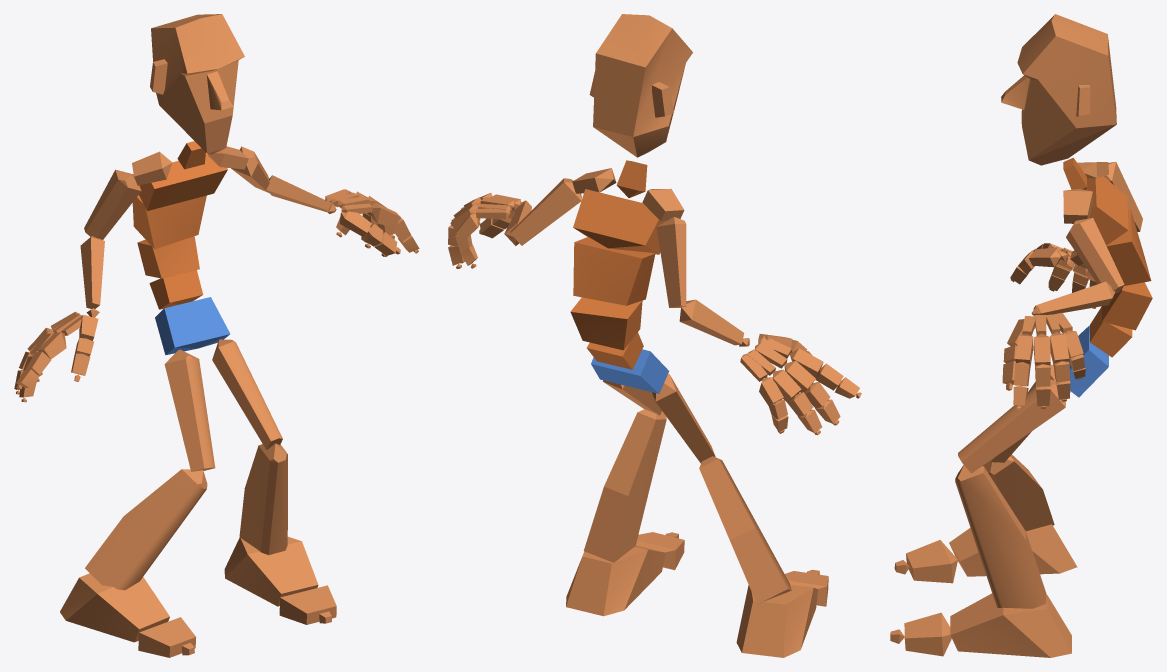
File: prueba180.obj
The picture shows the model from 3 angles, left to right: view 1: azimuth 30°, elevation 25°; view 2: azimuth 150°, elevation 25°; view 3: azimuth 270°, elevation 25°; orthographic projection. The views are drawn at different scales.
Parts seen in each view (by area): view 1: BOPED_Head, BOPED_R_leg, BOPED_R_foot, BOPED_L_leg, BOPED_R_foot01, BOPED_R_legup, Bone01, BOPED_L_legup, Bone04, Bone05, BOPED_R_arm_upper, Bone03 (+8 smaller); view 2: BOPED_Head, BOPED_L_leg, BOPED_R_leg, BOPED_R_foot01, BOPED_R_foot, Bone04, Bone05, Bone03, BOPED_R_arm_upper, BOPED_R_legup, BOPED_L_arm_upper, Bone01 (+8 smaller); view 3: BOPED_Head, BOPED_L_leg, BOPED_R_foot01, BOPED_L_legup, BOPED_R_leg, BOPED_R_foot, BOPED_L_arm_upper, Bone05, Bone04, BOPED_R_foot_toe01, BOPED_R_foot_toe04, Bone03 (+12 smaller).
Part boxes in pixels (x1,y1,x2,y2): BOPED_Head: [150, 14, 244, 154]; BOPED_R_leg: [85, 469, 207, 590]; BOPED_R_foot: [60, 573, 169, 642]; BOPED_L_leg: [239, 443, 287, 555]; BOPED_R_foot01: [224, 536, 318, 606]; BOPED_R_legup: [164, 349, 215, 471]; Bone01: [155, 297, 230, 355]; BOPED_L_legup: [212, 339, 282, 449]; Bone04: [132, 195, 206, 248]; Bone05: [139, 153, 227, 210]; BOPED_R_arm_upper: [84, 169, 141, 239]; Bone03: [137, 236, 199, 278]; BOPED_Head: [589, 14, 692, 157]; BOPED_L_leg: [583, 409, 666, 562]; BOPED_R_leg: [699, 456, 791, 604]; BOPED_R_foot01: [566, 545, 665, 616]; BOPED_R_foot: [736, 584, 817, 657]; Bone04: [573, 237, 655, 305]; Bone05: [573, 189, 665, 254]; Bone03: [570, 297, 642, 350]; BOPED_R_arm_upper: [656, 217, 686, 307]; BOPED_R_legup: [652, 374, 715, 463]; BOPED_L_arm_upper: [510, 178, 581, 245]; Bone01: [591, 349, 669, 393]; BOPED_Head: [1001, 14, 1116, 165]; BOPED_L_leg: [955, 465, 1046, 608]; BOPED_R_foot01: [950, 593, 1071, 657]; BOPED_L_legup: [958, 379, 1065, 473]; BOPED_R_leg: [982, 454, 1054, 531]; BOPED_R_foot: [949, 524, 1077, 576]; BOPED_L_arm_upper: [1066, 218, 1124, 293]; Bone05: [1086, 176, 1128, 245]; Bone04: [1106, 209, 1151, 285]; BOPED_R_foot_toe01: [906, 540, 957, 583]; BOPED_R_foot_toe04: [904, 612, 951, 656]; Bone03: [1101, 282, 1152, 330].
Size of the model in its own units: 130 by 179 by 71.3.
